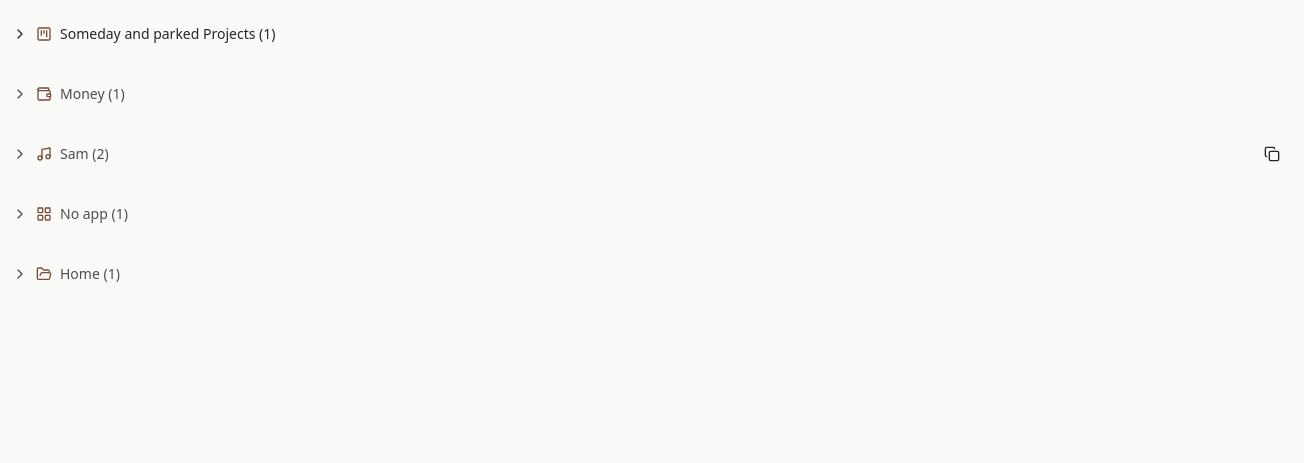
it: ideas: groups start collapsed; the heading toggles; the copy button does not
expect the link "Sam practice heatmap" is not shown: met
What coordinates should you click on to do the following:
click the button named "Copy ideas for an Overwatch chat"
I would click on:
 (1272, 154)
Its box is [1252,134,1292,174].
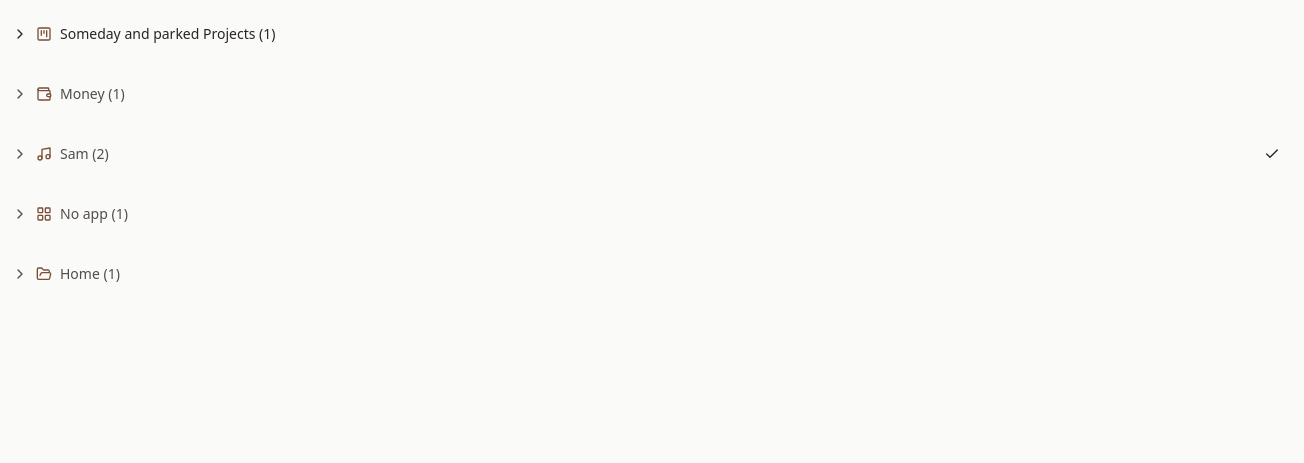
What coordinates should you click on to do the following:
click the button "Sam (2)"
I would click on:
 (60, 154)
Its box is [12,132,109,176].
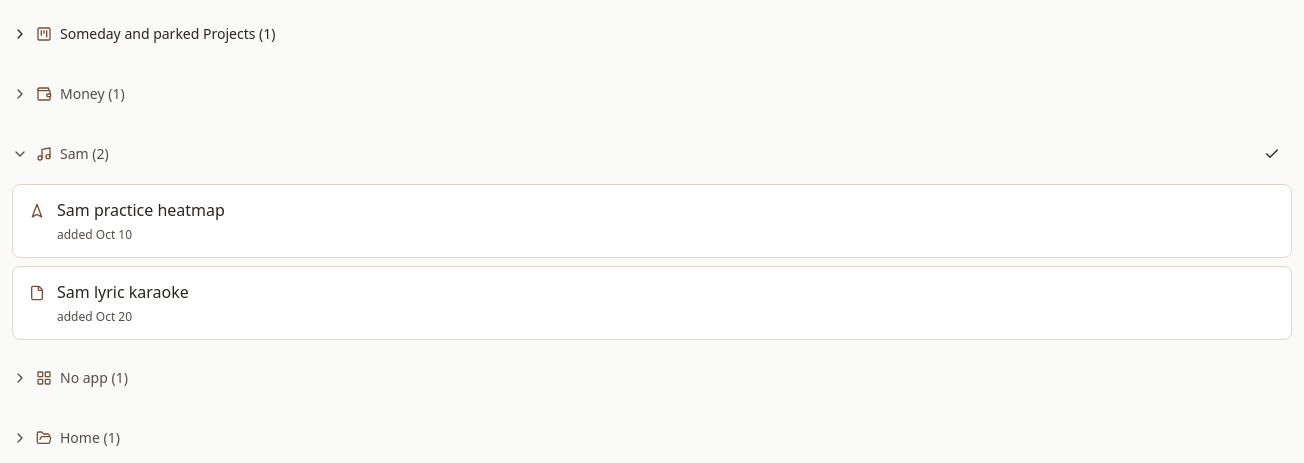
expect the link "Sam practice heatmap" is shown: met, box [57,199,225,221]
What coordinates should you click on to do the following:
click the button "Sam (2)"
I would click on:
 (60, 154)
Its box is [12,132,109,176].
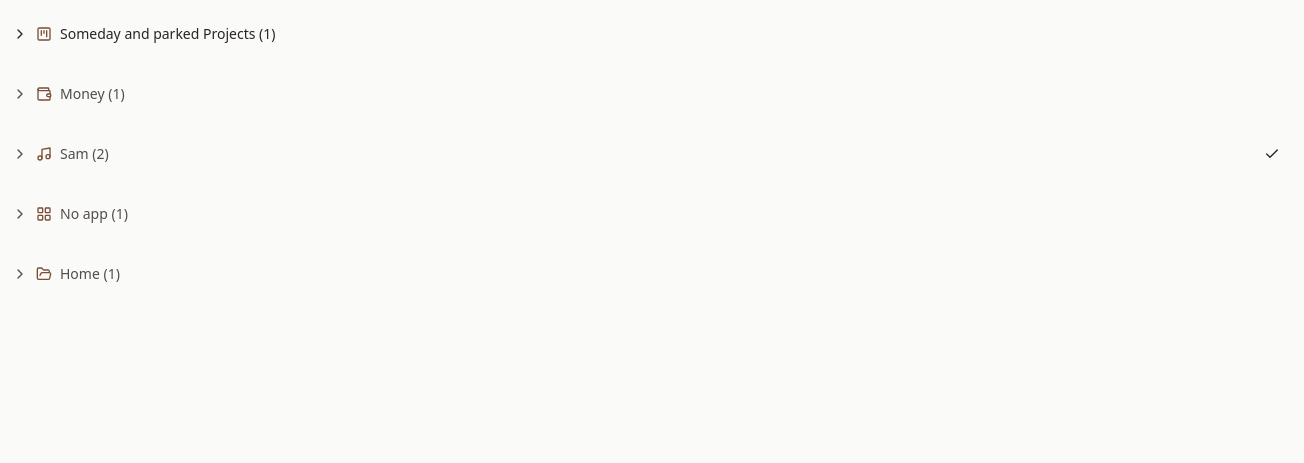
expect the link "Sam practice heatmap" is gone: met
